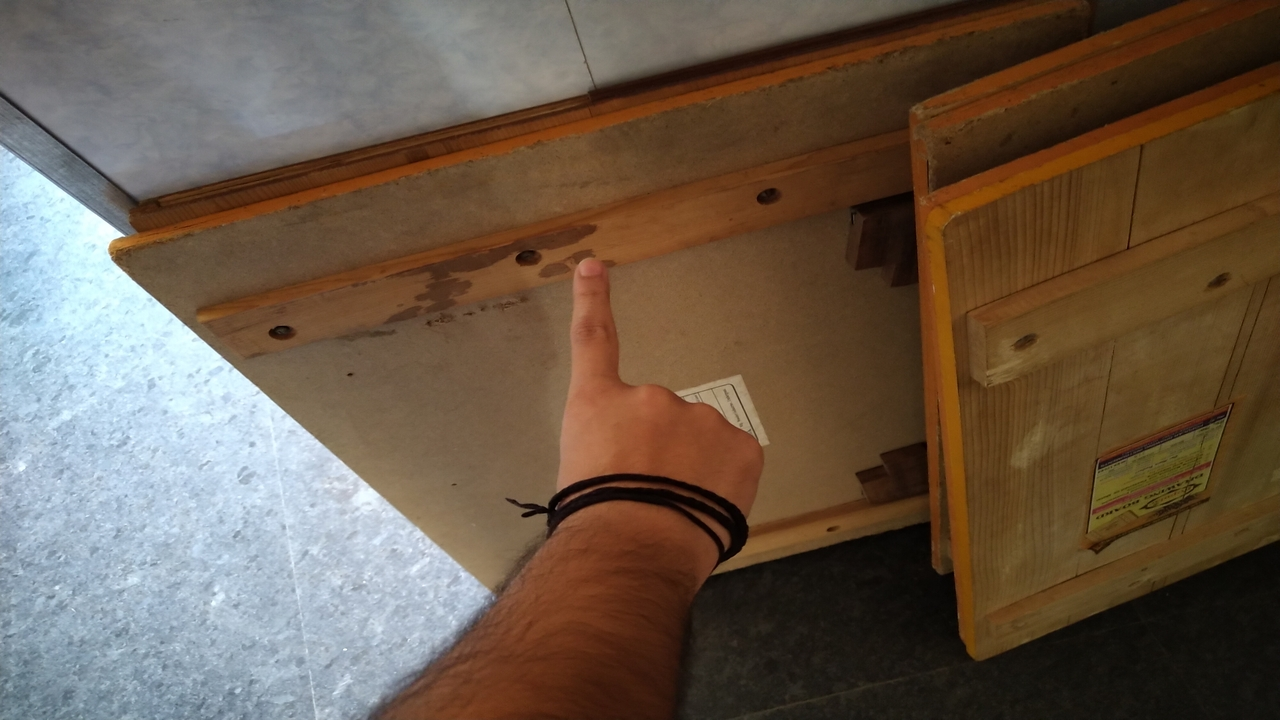fingertip: (562, 246, 622, 296)
